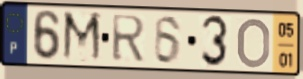3: (197, 13, 233, 70)
6: (31, 8, 62, 63), (153, 14, 184, 66)
M: (60, 9, 104, 65)
O: (235, 16, 272, 70)
R: (110, 13, 148, 64)
